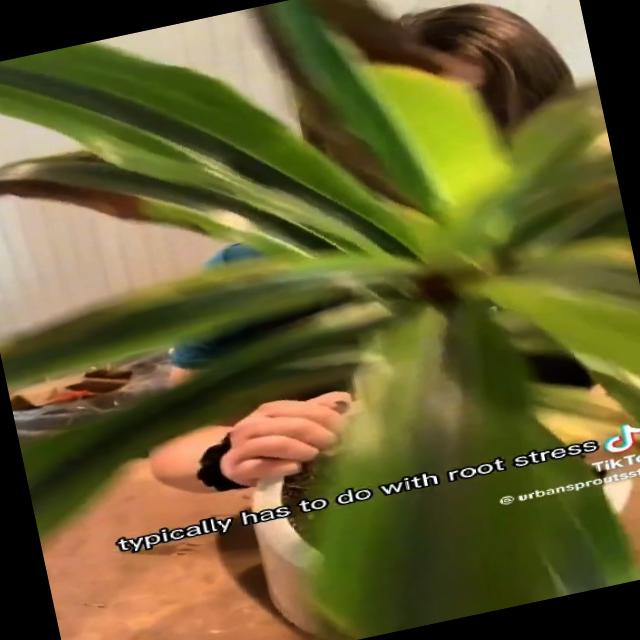lisc_suchy: (2, 251, 486, 390), (0, 151, 405, 259)
roslina_sucha: (0, 0, 640, 639)
